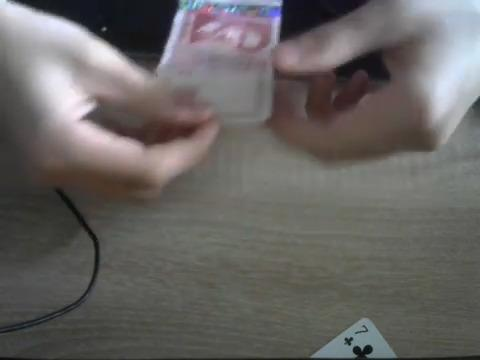5leva: (155, 0, 281, 127)
